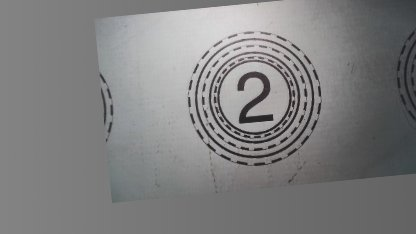2r: (181, 25, 327, 172)
